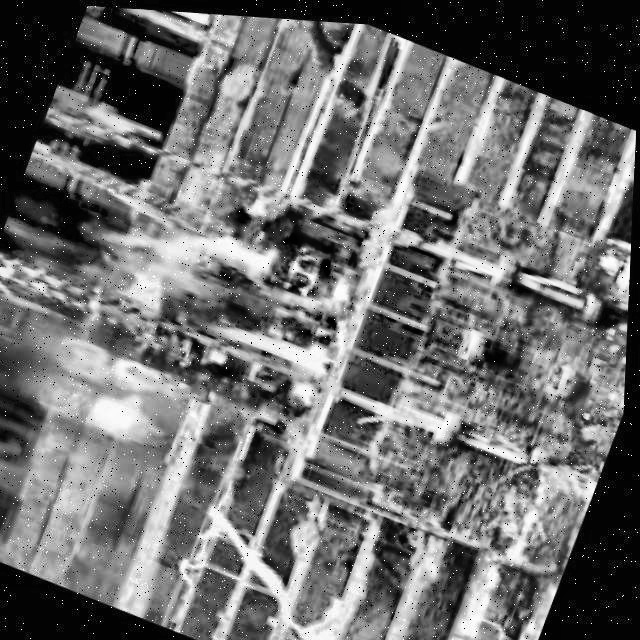Smoke: (64, 185, 367, 392)
